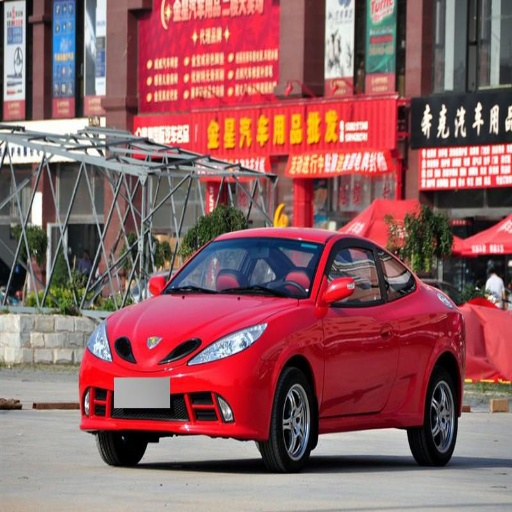front_bumper: (82, 348, 257, 430)
front_glass: (162, 236, 324, 299)
front_left_door: (320, 240, 396, 416)
